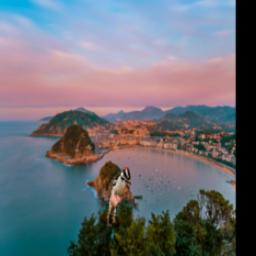Woodpecker: (107, 167, 132, 227)
